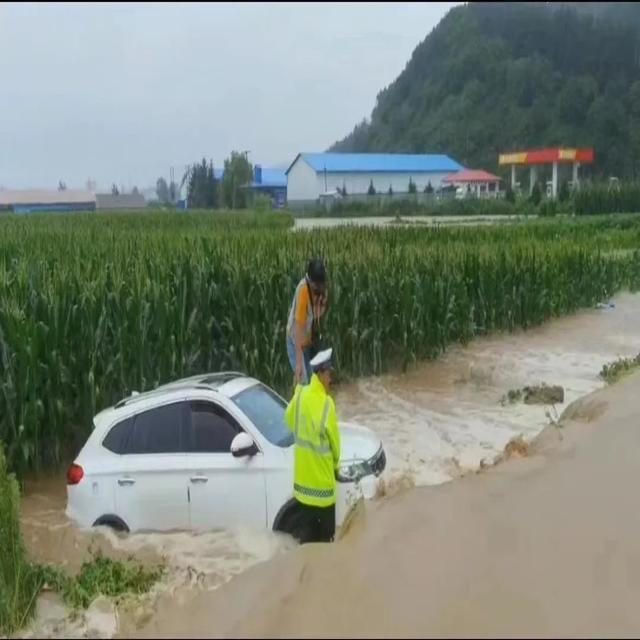Car-RiskLevel3: (68, 360, 387, 539)
Person-RiskLevel3: (291, 354, 352, 556), (283, 261, 345, 431)
